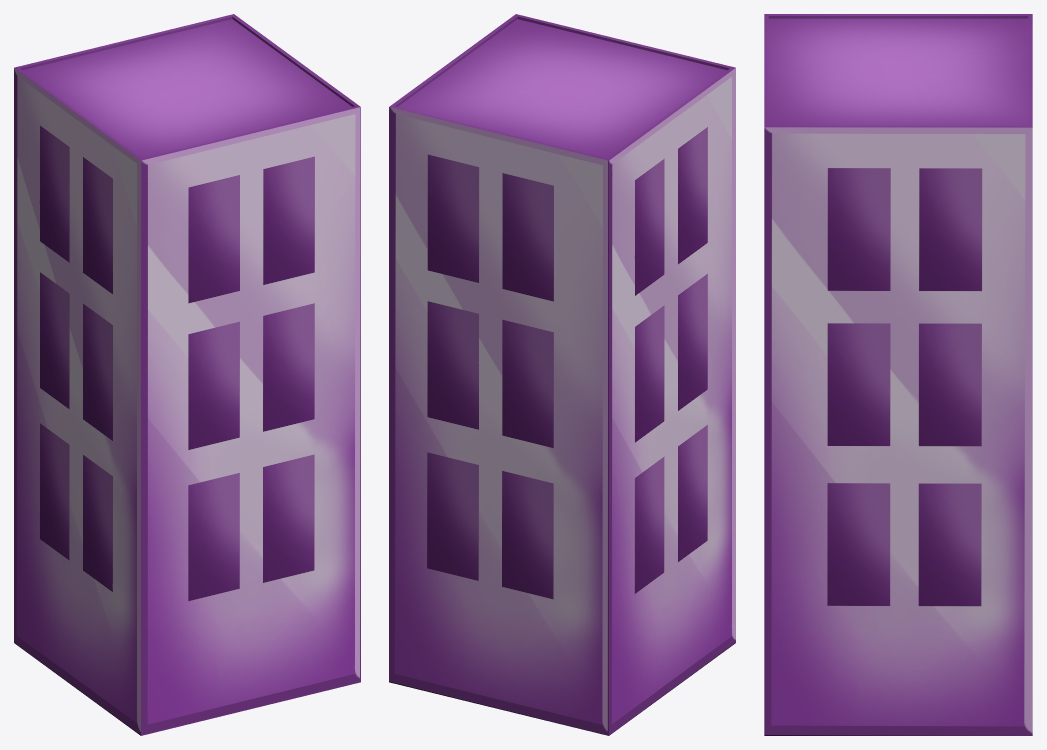
The model's file is 20x20Platform.fbx.
The picture shows the model from 3 angles, left to right: view 1: azimuth 30°, elevation 25°; view 2: azimuth 150°, elevation 25°; view 3: azimuth 270°, elevation 25°; orthographic projection. The views are drawn at different scales.
Visible parts, largest first — view 1: 20x20 Building; view 2: 20x20 Building; view 3: 20x20 Building.
Boxes of the visible parts, box(x1,y1,x2,y2) form: 20x20 Building: box(14, 14, 360, 735); 20x20 Building: box(389, 14, 735, 735); 20x20 Building: box(764, 14, 1032, 735).
Bounding box in the file's own units: 2000 × 5000 × 2000.
Materials: 1 (1 with a texture image).
